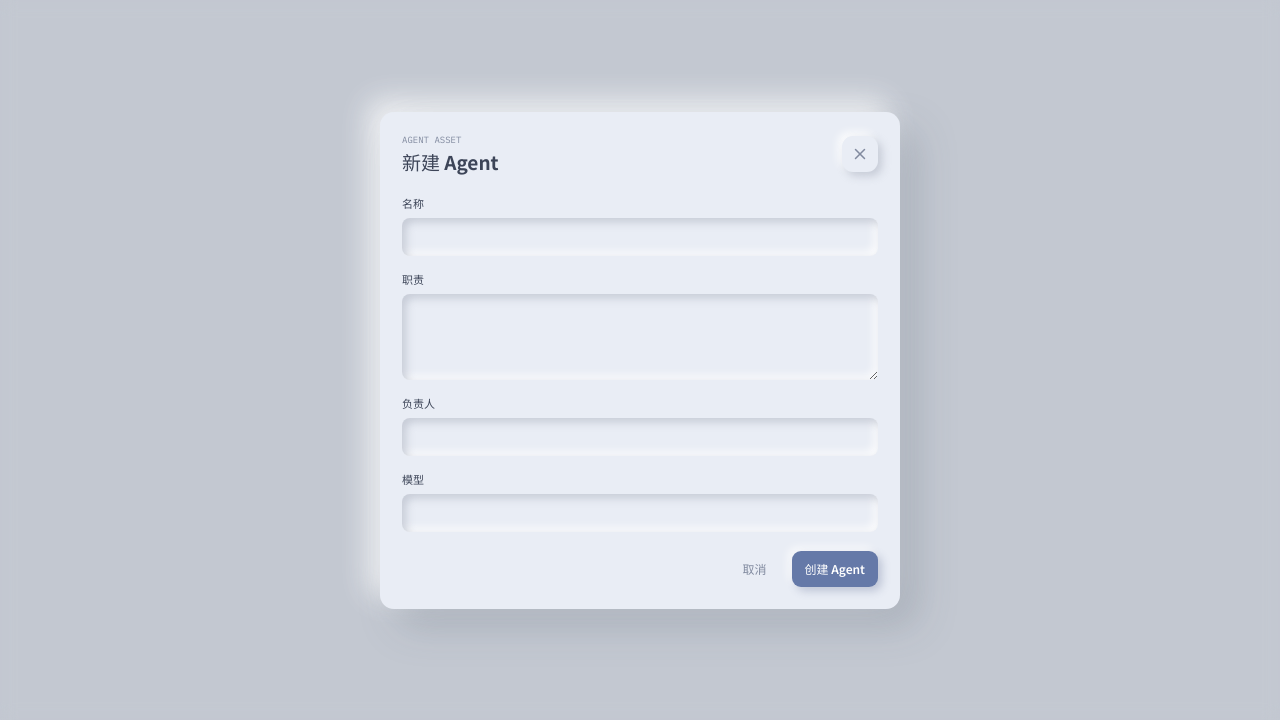
Test: AgentCreateDialog › shows field-level errors and does not submit blank values
The image size is (1280, 720).
Click the button "创建 Agent" at (835, 568), box [792,550,878,586]
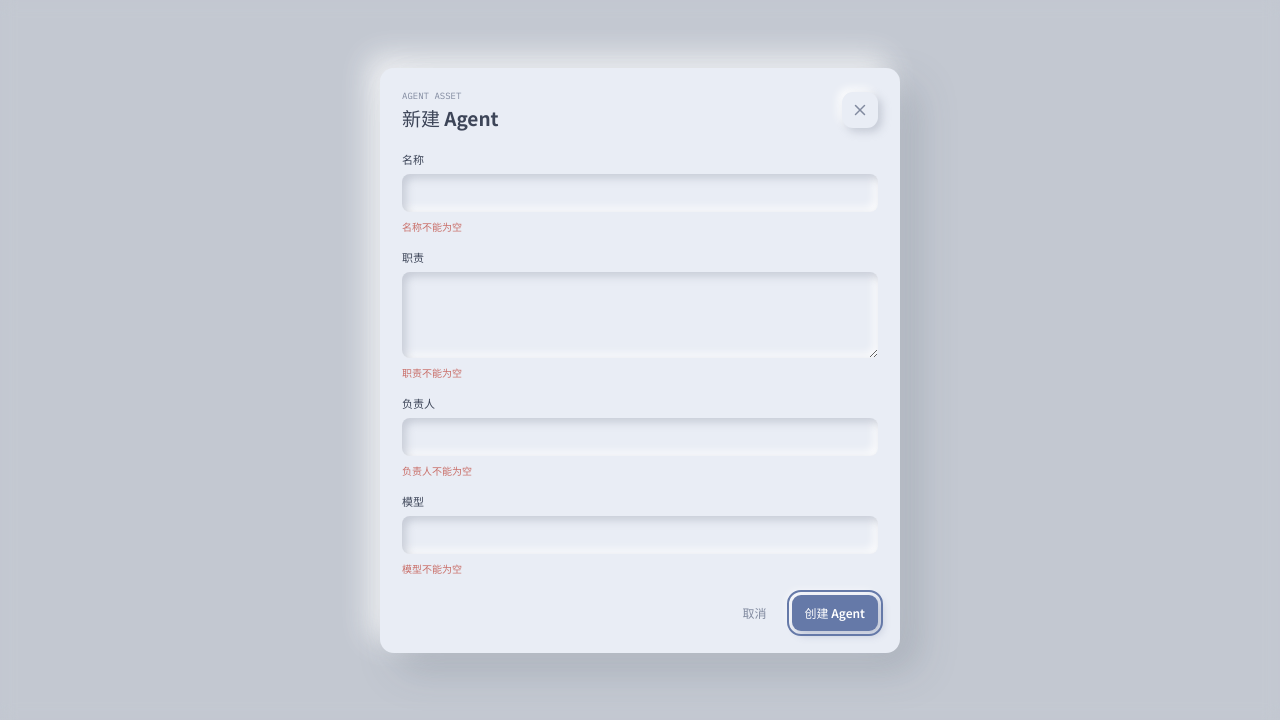
Result: the number of messages is 4 at [402,218,462,234]; [402,364,462,380]; [402,462,472,478]; [402,560,462,576]
